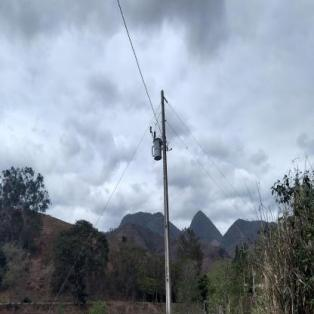Poste: (161, 89, 172, 311)
